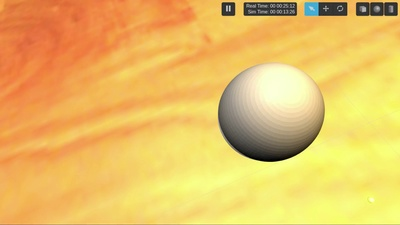mira_robot: (219, 62, 326, 162)
